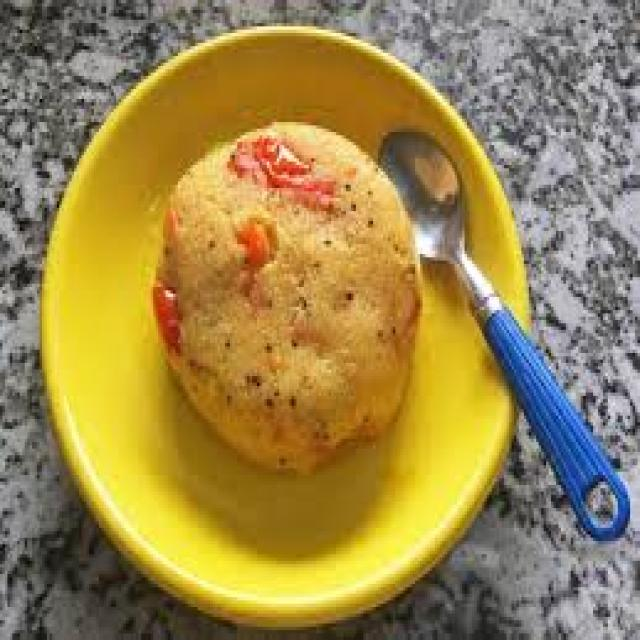UPMA: (148, 119, 415, 468)
